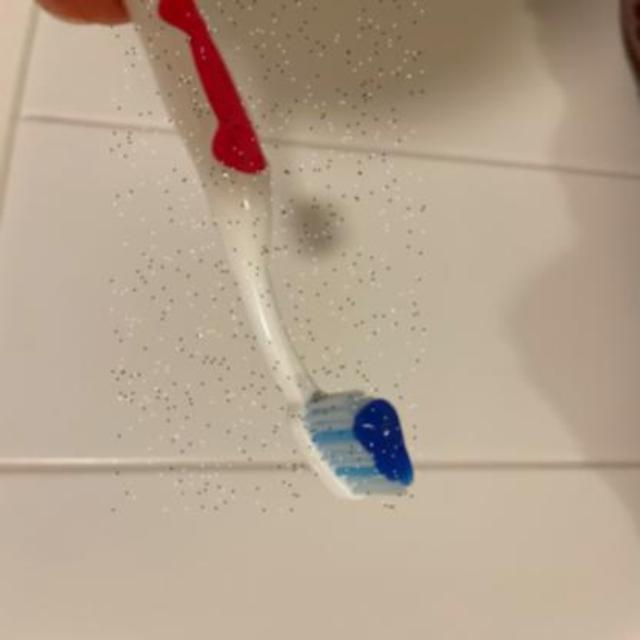toothbrush: (112, 0, 424, 510)
